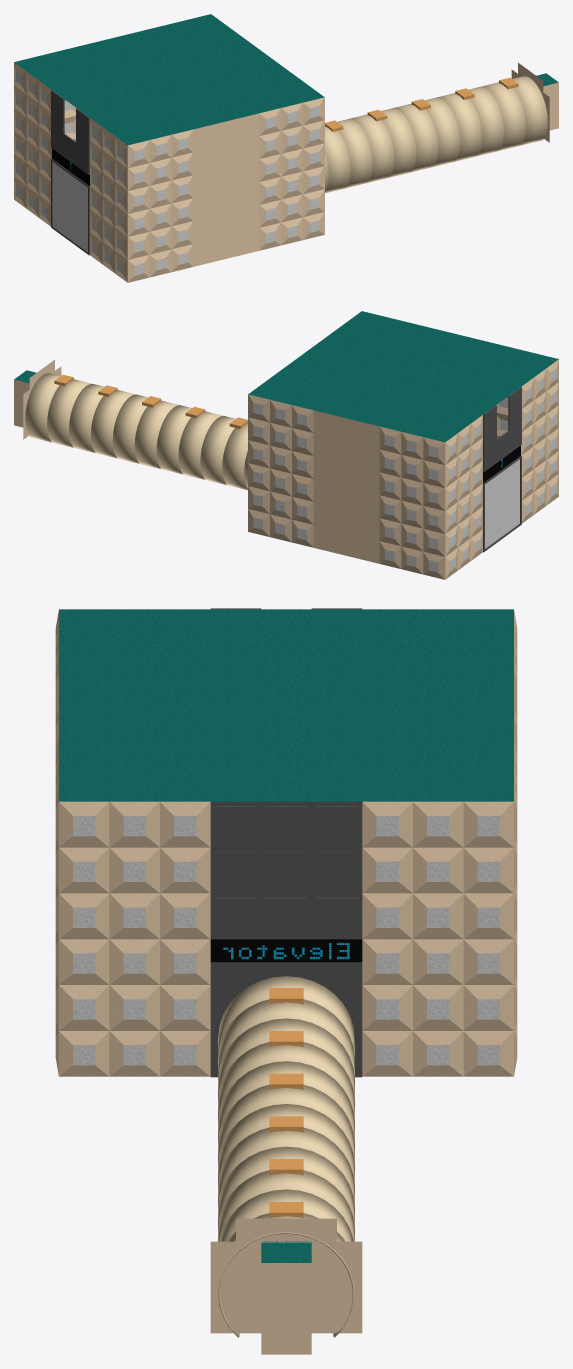
Rendered from intro_level.fbx.
The picture shows the model from 3 angles, top to bottom: view 1: azimuth 30°, elevation 25°; view 2: azimuth 150°, elevation 25°; view 3: azimuth 270°, elevation 25°; orthographic projection. The views are drawn at different scales.
Parts seen in each view (by area): view 1: Floor.284, Cylinder.004, Cylinder.006, Cylinder.008, Cylinder.010, Cylinder.005, Cylinder.003, Cylinder.011, Cylinder.007, Cylinder.009, Cylinder.002, Floor.179 (+54 smaller); view 2: Floor.284, Cylinder.004, Cylinder.006, Cylinder.008, Cylinder.010, Cylinder.005, Cylinder.003, Cylinder.011, Cylinder.007, Cylinder.009, Cylinder.002, Floor.233 (+54 smaller); view 3: Floor.290, Cylinder.005, Cylinder.003, Cylinder.001, Cylinder.007, Cylinder.009, Cylinder.006, Cylinder.002, Cylinder.004, Cylinder.008, Cylinder, Floor.285 (+134 smaller).
Boxes of the visible parts, bbox=[...] form: Floor.284: bbox=[51, 158, 89, 255]; Cylinder.004: bbox=[349, 114, 394, 182]; Cylinder.006: bbox=[393, 103, 438, 171]; Cylinder.008: bbox=[436, 93, 481, 161]; Cylinder.010: bbox=[481, 82, 525, 150]; Cylinder.005: bbox=[381, 108, 416, 177]; Cylinder.003: bbox=[337, 119, 372, 187]; Cylinder.011: bbox=[512, 76, 547, 145]; Cylinder.007: bbox=[425, 97, 460, 166]; Cylinder.009: bbox=[468, 87, 503, 155]; Cylinder.002: bbox=[325, 126, 350, 193]; Floor.179: bbox=[149, 249, 171, 277]; Floor.284: bbox=[483, 455, 521, 552]; Cylinder.004: bbox=[178, 411, 223, 479]; Cylinder.006: bbox=[134, 400, 179, 468]; Cylinder.008: bbox=[91, 390, 136, 458]; Cylinder.010: bbox=[47, 379, 91, 447]; Cylinder.005: bbox=[156, 405, 191, 474]; Cylinder.003: bbox=[200, 416, 235, 484]; Cylinder.011: bbox=[25, 373, 60, 442]; Cylinder.007: bbox=[112, 394, 147, 463]; Cylinder.009: bbox=[69, 384, 104, 452]; Cylinder.002: bbox=[222, 423, 247, 490]; Floor.233: bbox=[401, 546, 423, 574]; Floor.290: bbox=[210, 939, 362, 962]; Cylinder.005: bbox=[218, 1085, 354, 1165]; Cylinder.003: bbox=[218, 1042, 354, 1122]; Cylinder.001: bbox=[218, 999, 354, 1079]; Cylinder.007: bbox=[218, 1127, 354, 1208]; Cylinder.009: bbox=[218, 1170, 354, 1241]; Cylinder.006: bbox=[218, 1104, 354, 1186]; Cylinder.002: bbox=[218, 1018, 354, 1101]; Cylinder.004: bbox=[218, 1061, 354, 1143]; Cylinder.008: bbox=[218, 1146, 354, 1229]; Cylinder: bbox=[218, 976, 354, 1058]; Floor.285: bbox=[311, 893, 362, 939].
Size of the model in its own units: 8825 by 2439 by 3650.
